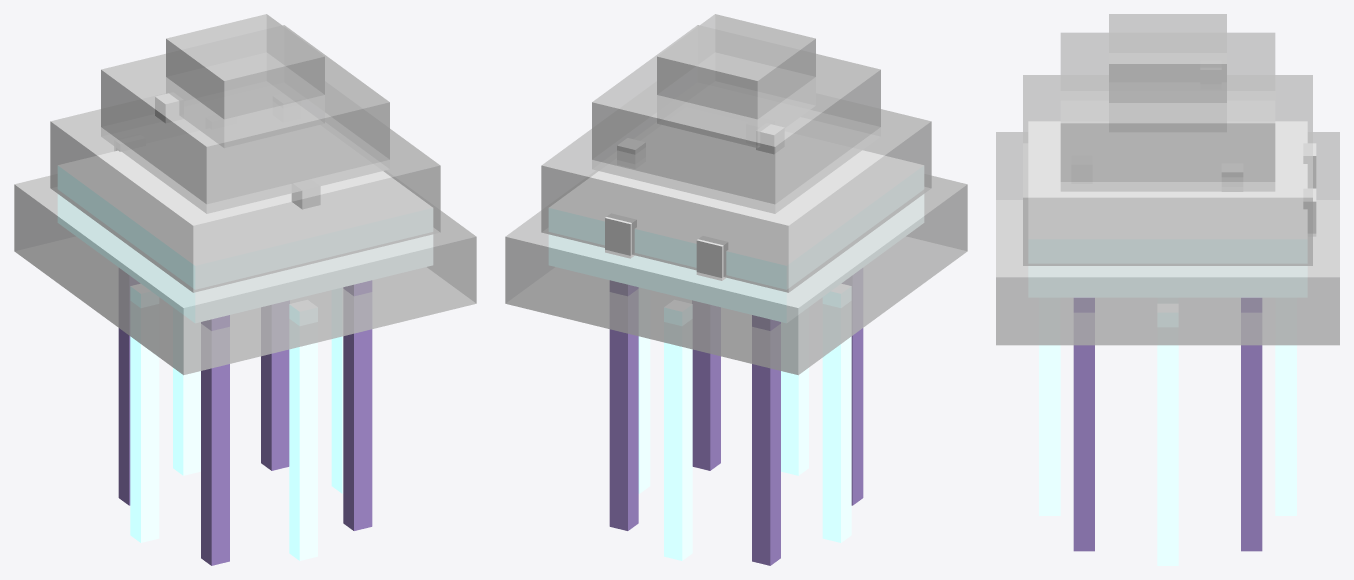
The model's file is CosmicJellyfish.fbx.
3 views of the same model, side by side, from view 1: azimuth 30°, elevation 25°; view 2: azimuth 150°, elevation 25°; view 3: azimuth 270°, elevation 25° (orthographic).
Parts seen in each view (by area): view 1: Cosmic Jellyfish_body_1, Cosmic Jellyfish_body_0, Cosmic Jellyfish_body_4, Cosmic Jellyfish_body_2, Cosmic Jellyfish_body_3, Cosmic Jellyfish_tail_11, Cosmic Jellyfish_tail_13, Cosmic Jellyfish_tail_14, Cosmic Jellyfish_tail_12, Cosmic Jellyfish_tail_8, Cosmic Jellyfish_tail_9, Cosmic Jellyfish_tail_10 (+2 smaller); view 2: Cosmic Jellyfish_body_1, Cosmic Jellyfish_body_0, Cosmic Jellyfish_body_4, Cosmic Jellyfish_body_2, Cosmic Jellyfish_body_3, Cosmic Jellyfish_tail_11, Cosmic Jellyfish_tail_9, Cosmic Jellyfish_tail_8, Cosmic Jellyfish_tail_10, Cosmic Jellyfish_tail_14, Cosmic Jellyfish_tail_13, Cosmic Jellyfish_tail_12 (+5 smaller); view 3: Cosmic Jellyfish_body_1, Cosmic Jellyfish_body_0, Cosmic Jellyfish_body_4, Cosmic Jellyfish_body_2, Cosmic Jellyfish_body_3, Cosmic Jellyfish_tail_7, Cosmic Jellyfish_tail_14, Cosmic Jellyfish_tail_8, Cosmic Jellyfish_tail_13, Cosmic Jellyfish_tail_9, Cosmic Jellyfish_body_15, Cosmic Jellyfish_body_6 (+1 smaller).
Part boxes in pixels (<box>): Cosmic Jellyfish_body_1: <box>50,109,440,292</box>; Cosmic Jellyfish_body_0: <box>14,175,476,375</box>; Cosmic Jellyfish_body_4: <box>58,151,432,322</box>; Cosmic Jellyfish_body_2: <box>101,25,389,213</box>; Cosmic Jellyfish_body_3: <box>166,14,324,147</box>; Cosmic Jellyfish_tail_11: <box>130,284,159,542</box>; Cosmic Jellyfish_tail_13: <box>289,300,317,560</box>; Cosmic Jellyfish_tail_14: <box>343,280,372,530</box>; Cosmic Jellyfish_tail_12: <box>201,315,229,565</box>; Cosmic Jellyfish_tail_8: <box>261,301,289,470</box>; Cosmic Jellyfish_tail_9: <box>173,308,200,475</box>; Cosmic Jellyfish_tail_10: <box>118,269,139,505</box>; Cosmic Jellyfish_body_1: <box>541,109,931,292</box>; Cosmic Jellyfish_body_0: <box>505,175,967,375</box>; Cosmic Jellyfish_body_4: <box>549,150,923,322</box>; Cosmic Jellyfish_body_2: <box>592,25,880,213</box>; Cosmic Jellyfish_body_3: <box>657,14,815,147</box>; Cosmic Jellyfish_tail_11: <box>822,284,851,542</box>; Cosmic Jellyfish_tail_9: <box>664,300,692,560</box>; Cosmic Jellyfish_tail_8: <box>609,280,638,530</box>; Cosmic Jellyfish_tail_10: <box>752,315,780,565</box>; Cosmic Jellyfish_tail_14: <box>692,301,720,470</box>; Cosmic Jellyfish_tail_13: <box>781,308,808,475</box>; Cosmic Jellyfish_tail_12: <box>842,269,863,505</box>; Cosmic Jellyfish_body_1: <box>1023,75,1312,265</box>; Cosmic Jellyfish_body_0: <box>996,132,1339,345</box>; Cosmic Jellyfish_body_4: <box>1028,121,1307,297</box>; Cosmic Jellyfish_body_2: <box>1060,32,1275,191</box>; Cosmic Jellyfish_body_3: <box>1109,14,1226,131</box>; Cosmic Jellyfish_tail_7: <box>1157,304,1178,565</box>; Cosmic Jellyfish_tail_14: <box>1073,298,1094,551</box>; Cosmic Jellyfish_tail_8: <box>1241,298,1262,551</box>; Cosmic Jellyfish_tail_13: <box>1039,298,1060,515</box>; Cosmic Jellyfish_tail_9: <box>1275,298,1296,515</box>; Cosmic Jellyfish_body_15: <box>1222,163,1242,191</box>; Cosmic Jellyfish_body_6: <box>1303,143,1316,188</box>.
Bounding box in the file's own units: 160 × 243 × 160.
